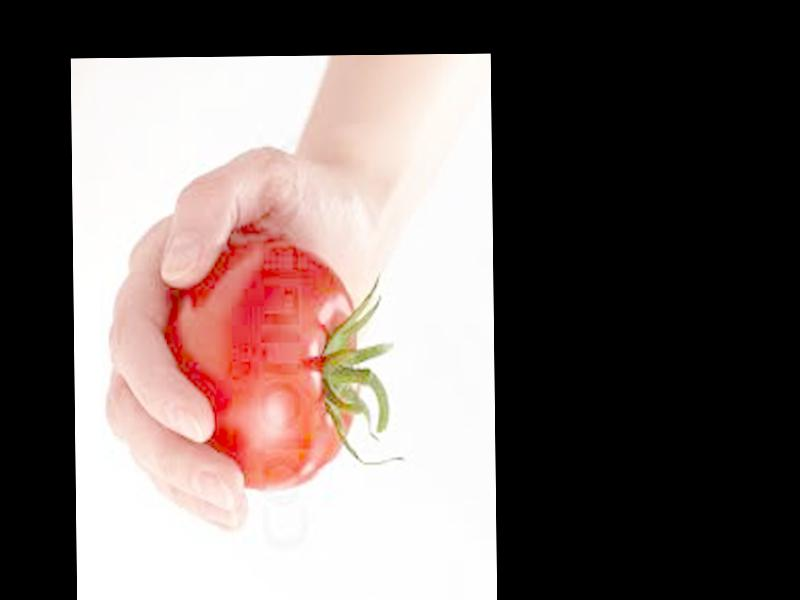Tomato: (166, 243, 362, 491)
